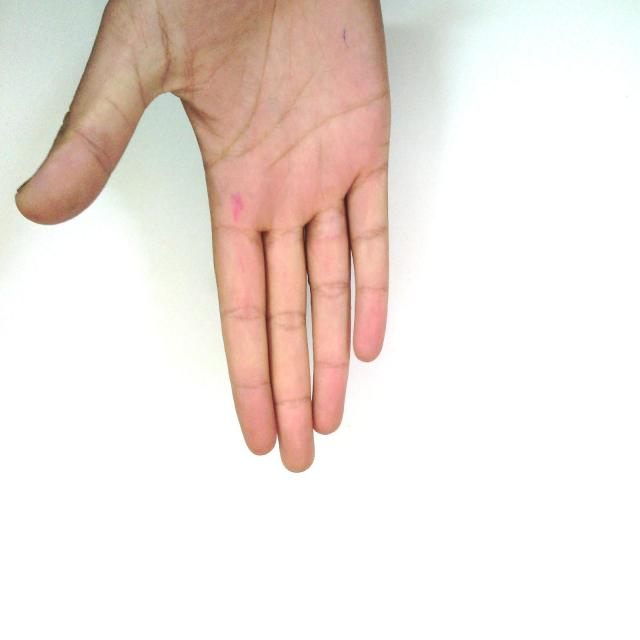others: (16, 3, 503, 477)
